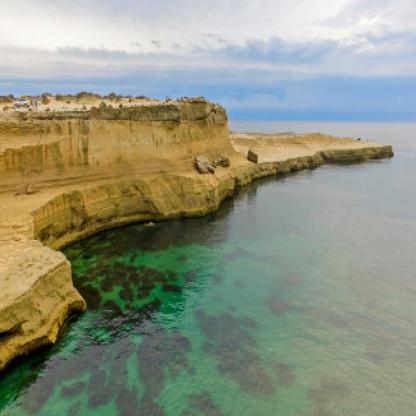Sedimentary_Sandstone: (1, 98, 214, 185), (1, 244, 56, 347), (1, 192, 106, 242), (246, 129, 388, 163)
